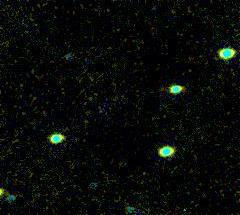star: (0, 172, 18, 202)
